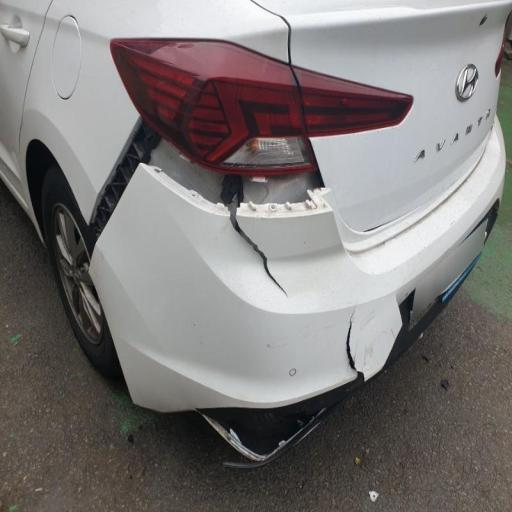broken: (140, 69, 398, 504)
